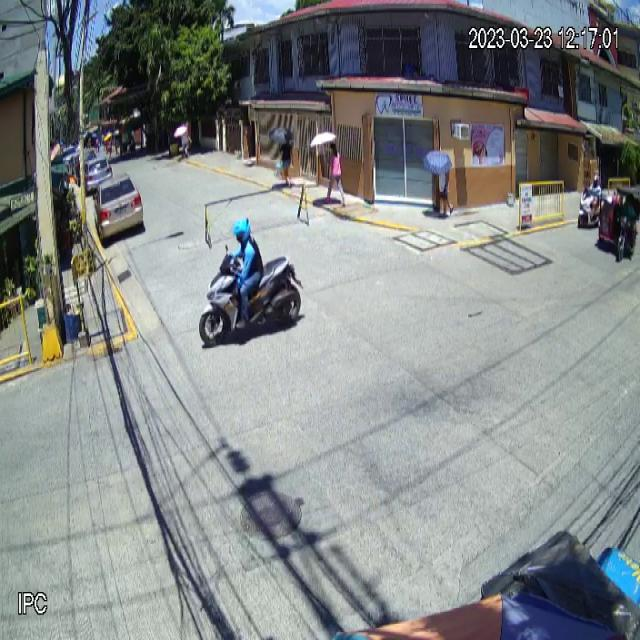Car: (93, 174, 143, 241)
Motorcycle: (198, 242, 302, 343)
